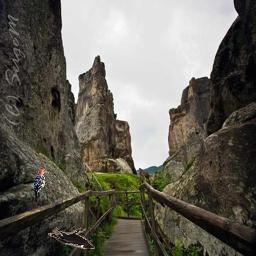Crow: (49, 227, 96, 249)
Woodpecker: (34, 168, 51, 198)
